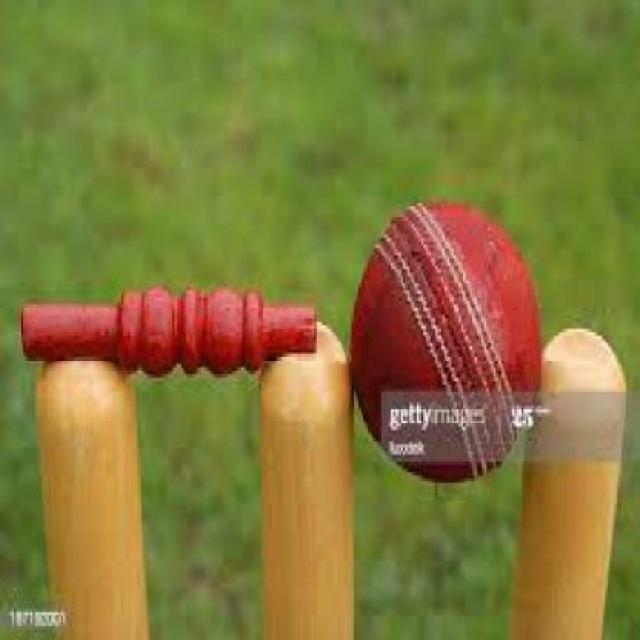ball: (300, 147, 598, 512)
